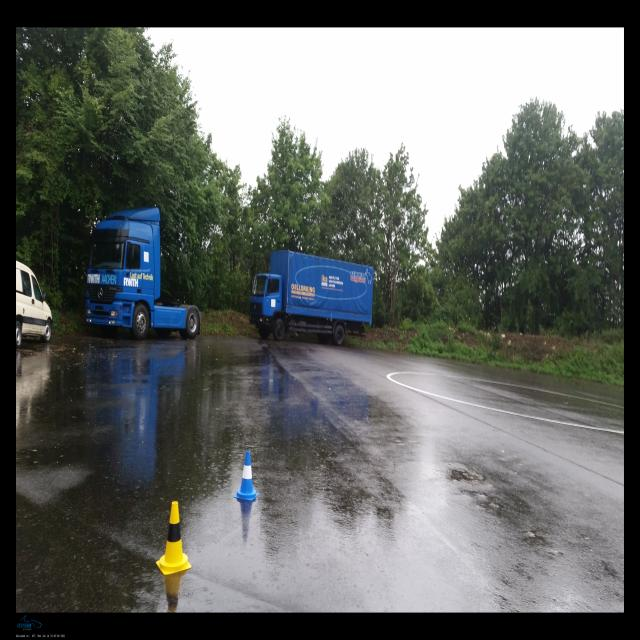blue_cone: (234, 451, 258, 501)
yellow_cone: (156, 501, 191, 575)
